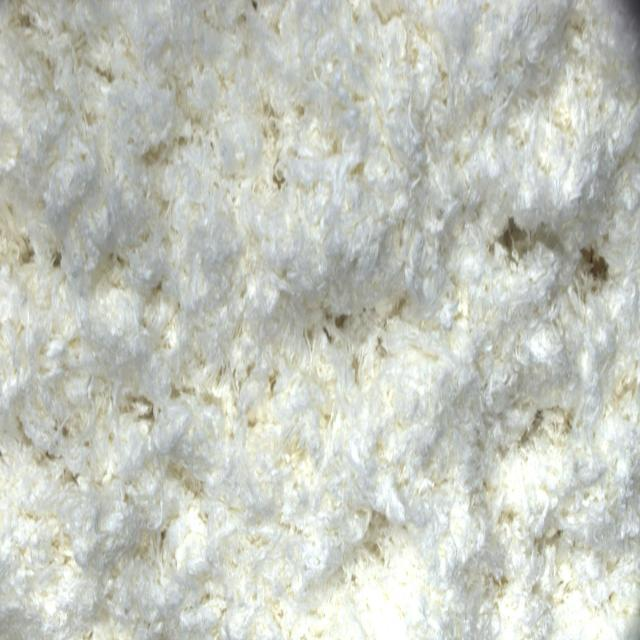dust: (503, 217, 532, 269), (583, 235, 607, 293)
